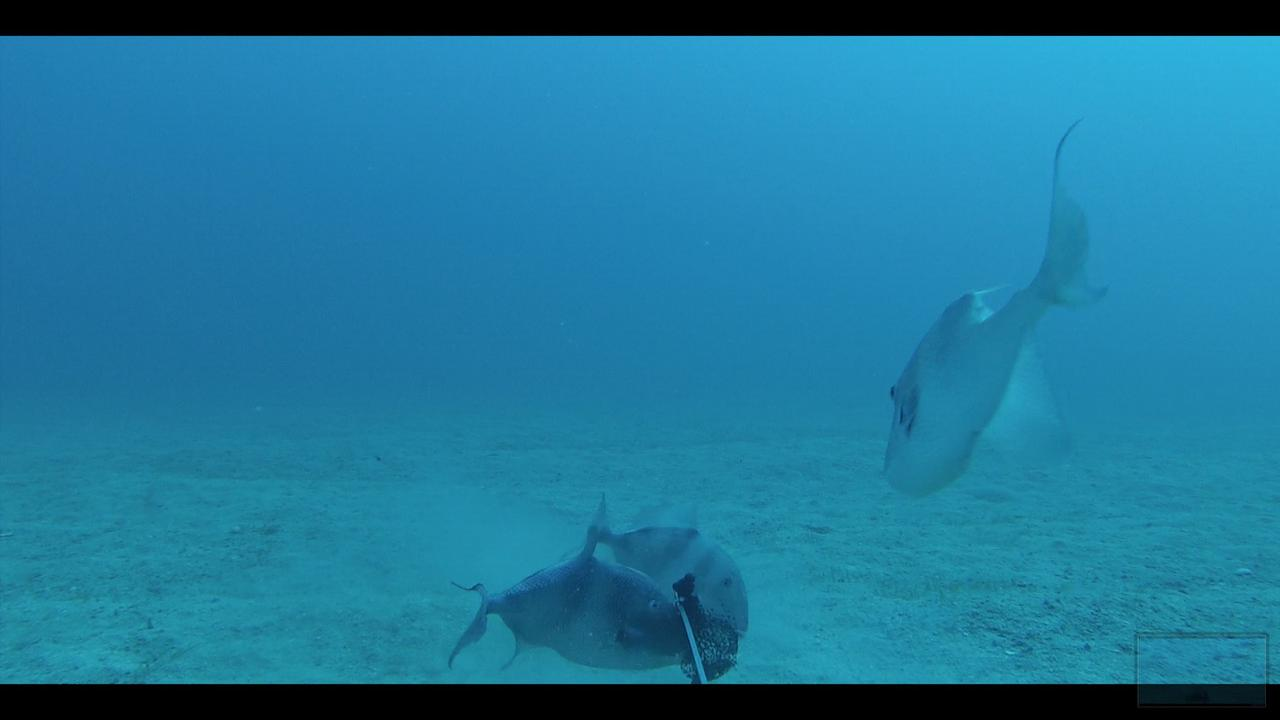balistes: (878, 118, 1110, 498), (443, 523, 686, 673), (583, 489, 750, 637)
